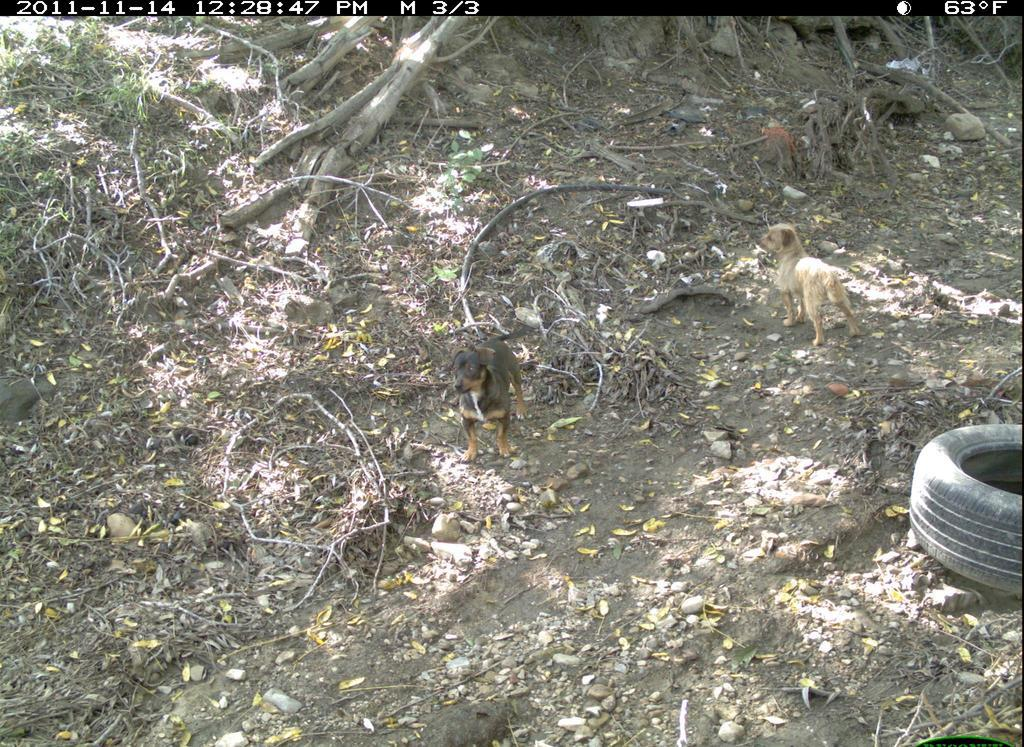dog: (731, 210, 861, 358), (434, 321, 548, 472)
